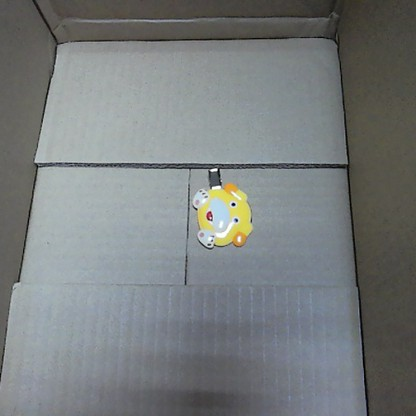dogclip: (189, 162, 255, 249)
